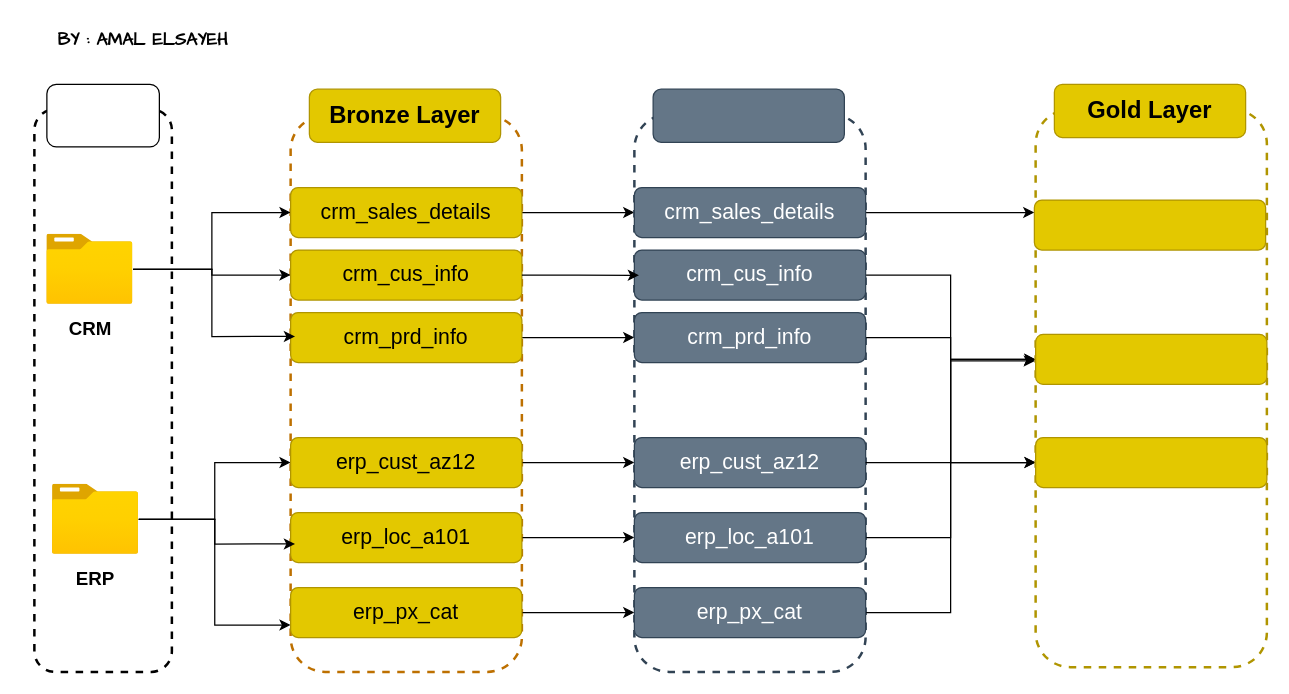
The diagram is 1289 pixels wide and 694 high, and some of its shapes have lost their labels. Each missing label, with the centre of its shape:
dim_customers: point (1150, 358)
dim_products: point (1150, 462)
fact_sales: point (1149, 224)
Sliver Layer: point (748, 115)
Sources: point (102, 115)
